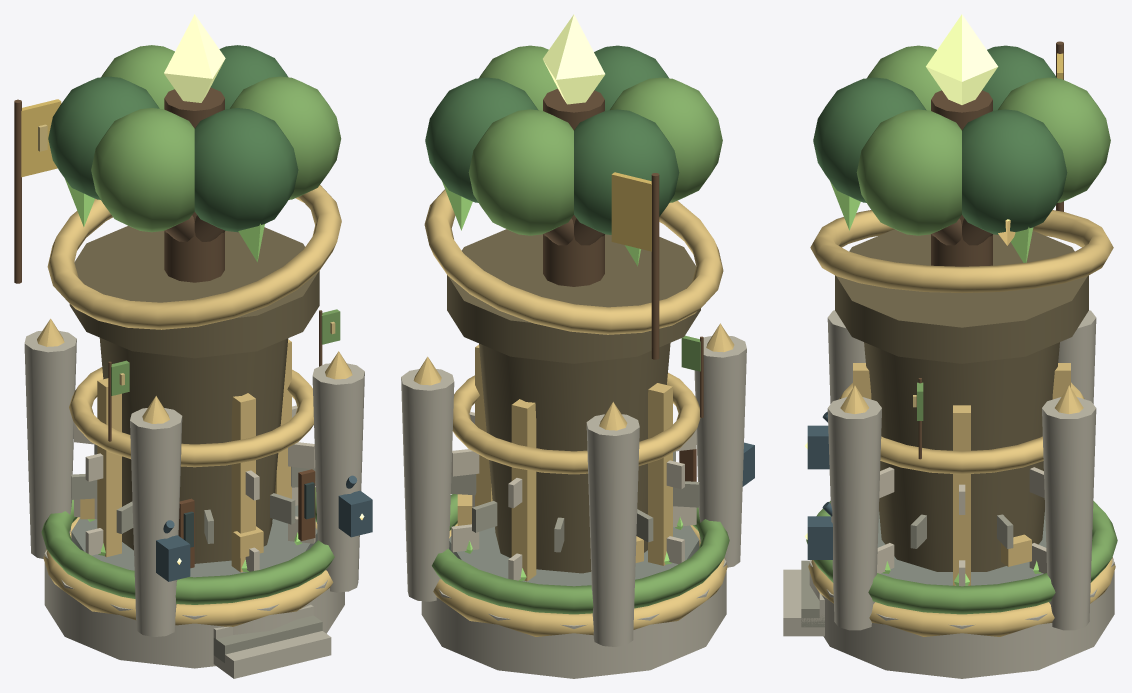
File: tower-nature-3-1.glb
3 views of the same model, side by side, from view 1: azimuth 30°, elevation 25°; view 2: azimuth 150°, elevation 25°; view 3: azimuth 270°, elevation 25° (orthographic).
Parts seen in each view (by area): view 1: Foundation, Turret, nature-L3-1; view 2: Foundation, Turret, nature-L3-1; view 3: Foundation, Turret, nature-L3-1.
Boxes of the visible parts, x1,y1,x2,y2 form: Foundation: (14, 99, 372, 678); Turret: (47, 14, 341, 358); nature-L3-1: (44, 505, 344, 668); Foundation: (401, 172, 754, 646); Turret: (424, 14, 723, 363); nature-L3-1: (421, 525, 726, 678); Foundation: (783, 41, 1117, 636); Turret: (810, 14, 1113, 363); nature-L3-1: (809, 510, 1114, 678).
Bounding box in the file's own units: 1.72 × 3.65 × 1.84.
